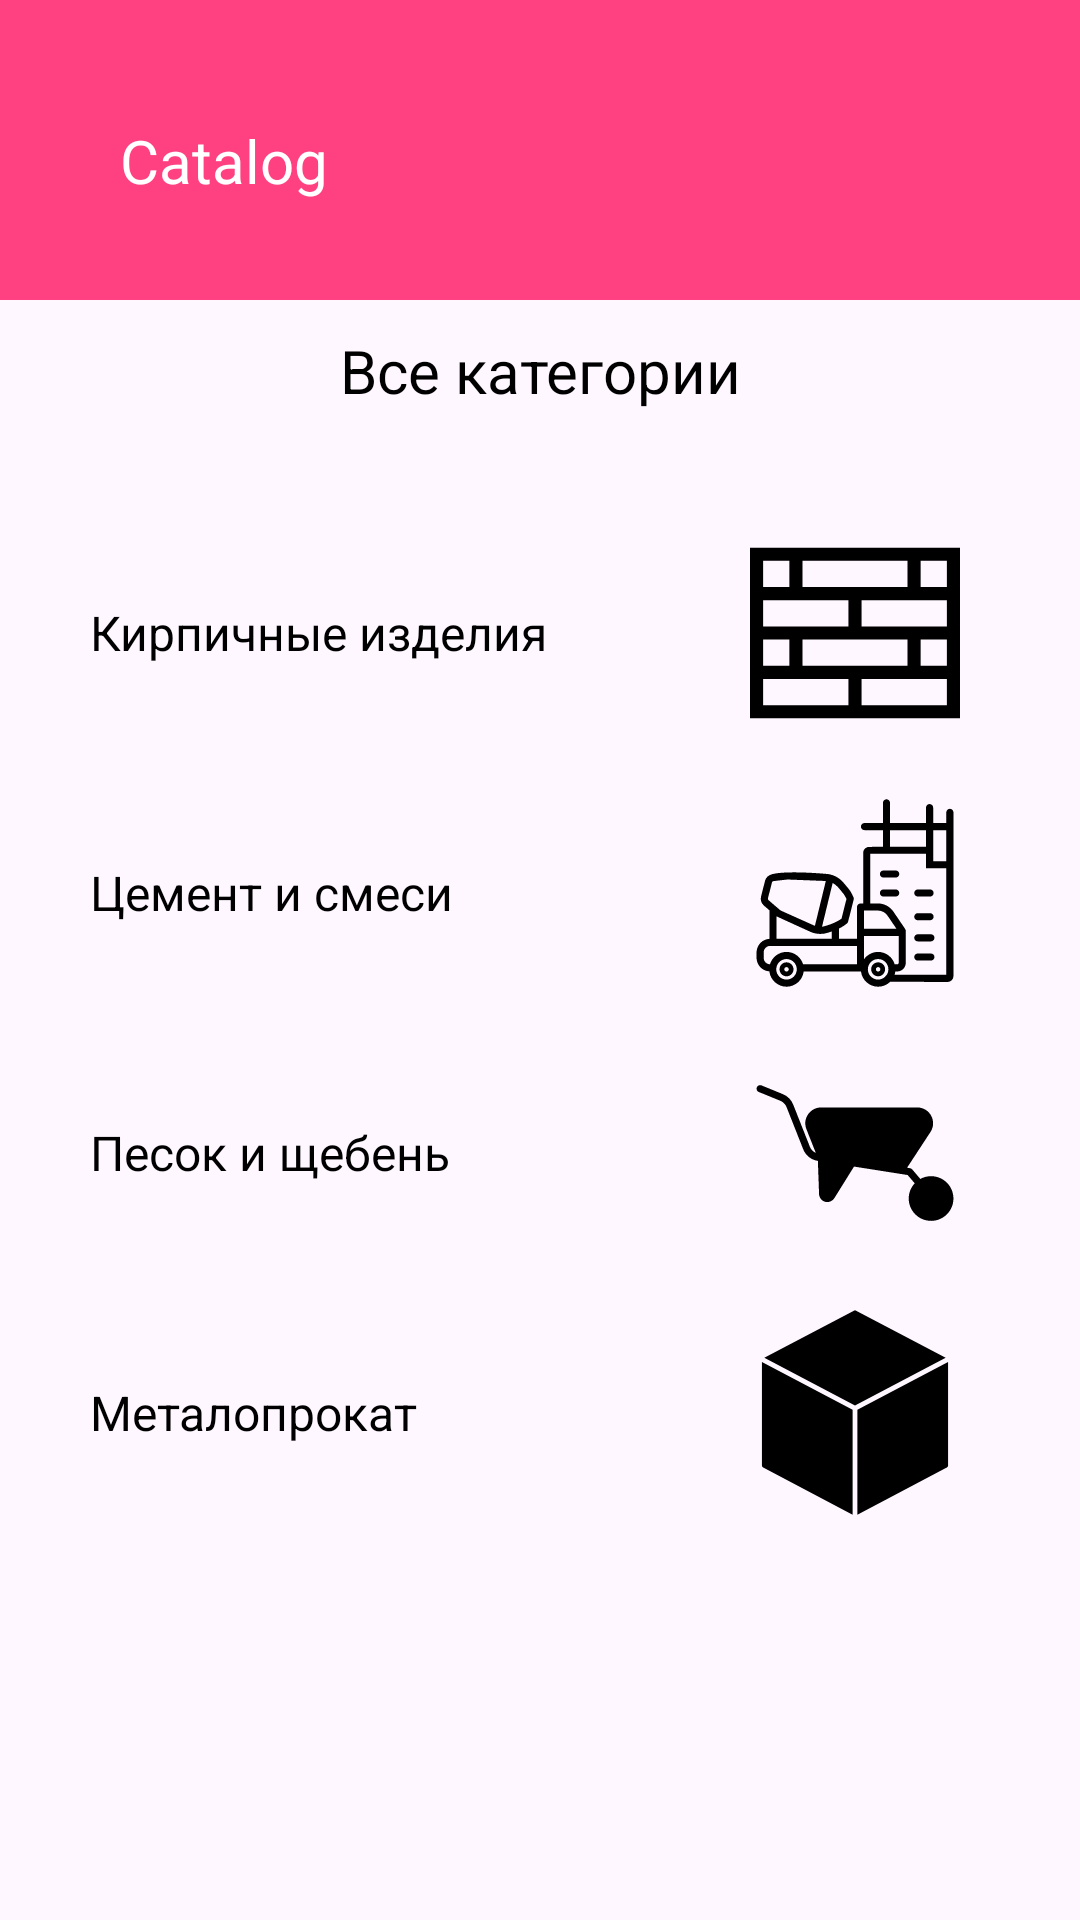

Named icons in this screenshot (1080px×1920px) and their centers, (x=x, y=y):
brick: (x=855, y=633)
cement: (x=855, y=893)
